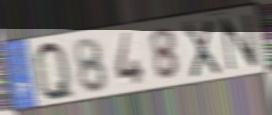4: (114, 30, 146, 88)
8: (73, 36, 108, 94), (149, 26, 181, 82)
N: (219, 12, 260, 73)
Q: (32, 39, 78, 103)
X: (180, 18, 222, 80)
